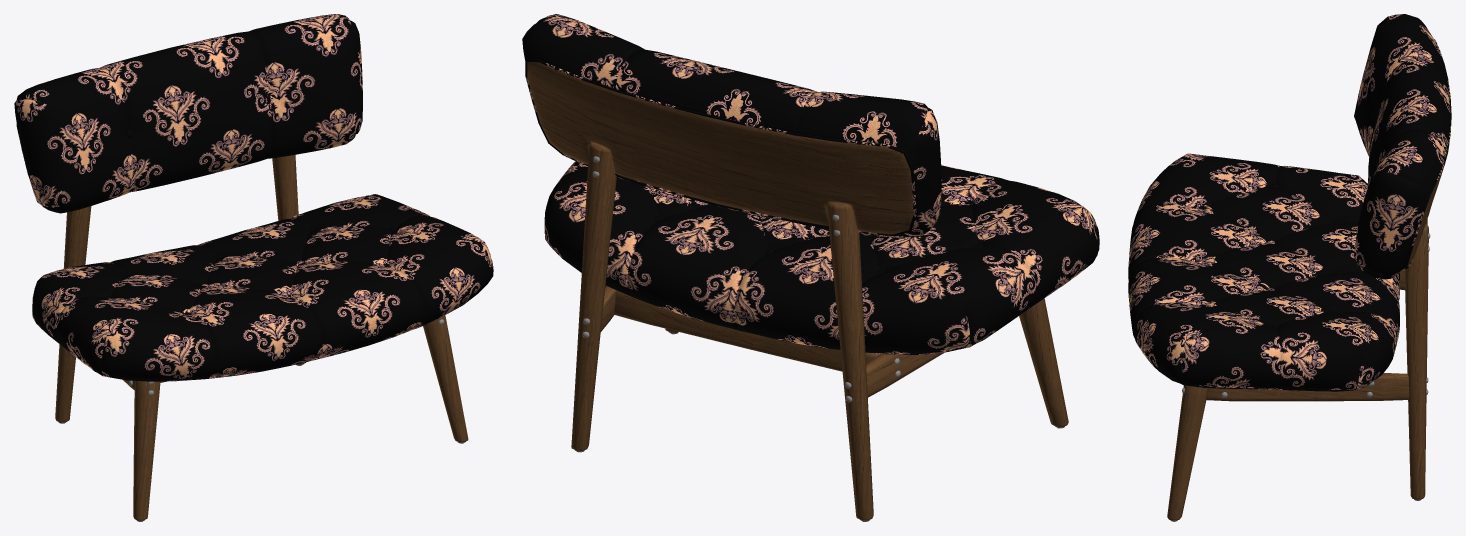
The model's file is chair_damask_purplegold.glb.
The picture shows the model from 3 angles, left to right: view 1: azimuth 30°, elevation 25°; view 2: azimuth 150°, elevation 25°; view 3: azimuth 270°, elevation 25°; orthographic projection. The views are drawn at different scales.
Parts seen in each view (by area): view 1: oval-tufted-chair_back-fabric, oval-tufted-chair_legs-frame; view 2: oval-tufted-chair_back-fabric, oval-tufted-chair_legs-frame; view 3: oval-tufted-chair_back-fabric, oval-tufted-chair_legs-frame.
Part boxes in pixels (x1,y1,x2,y2): oval-tufted-chair_back-fabric: (14, 14, 493, 381); oval-tufted-chair_legs-frame: (55, 154, 468, 520); oval-tufted-chair_back-fabric: (522, 14, 1099, 354); oval-tufted-chair_legs-frame: (527, 62, 1068, 520); oval-tufted-chair_back-fabric: (1128, 14, 1451, 391); oval-tufted-chair_legs-frame: (1167, 169, 1443, 520).
Size of the model in its own units: 0.8286 by 0.6873 by 0.5719.
4 materials, 3 textured.
